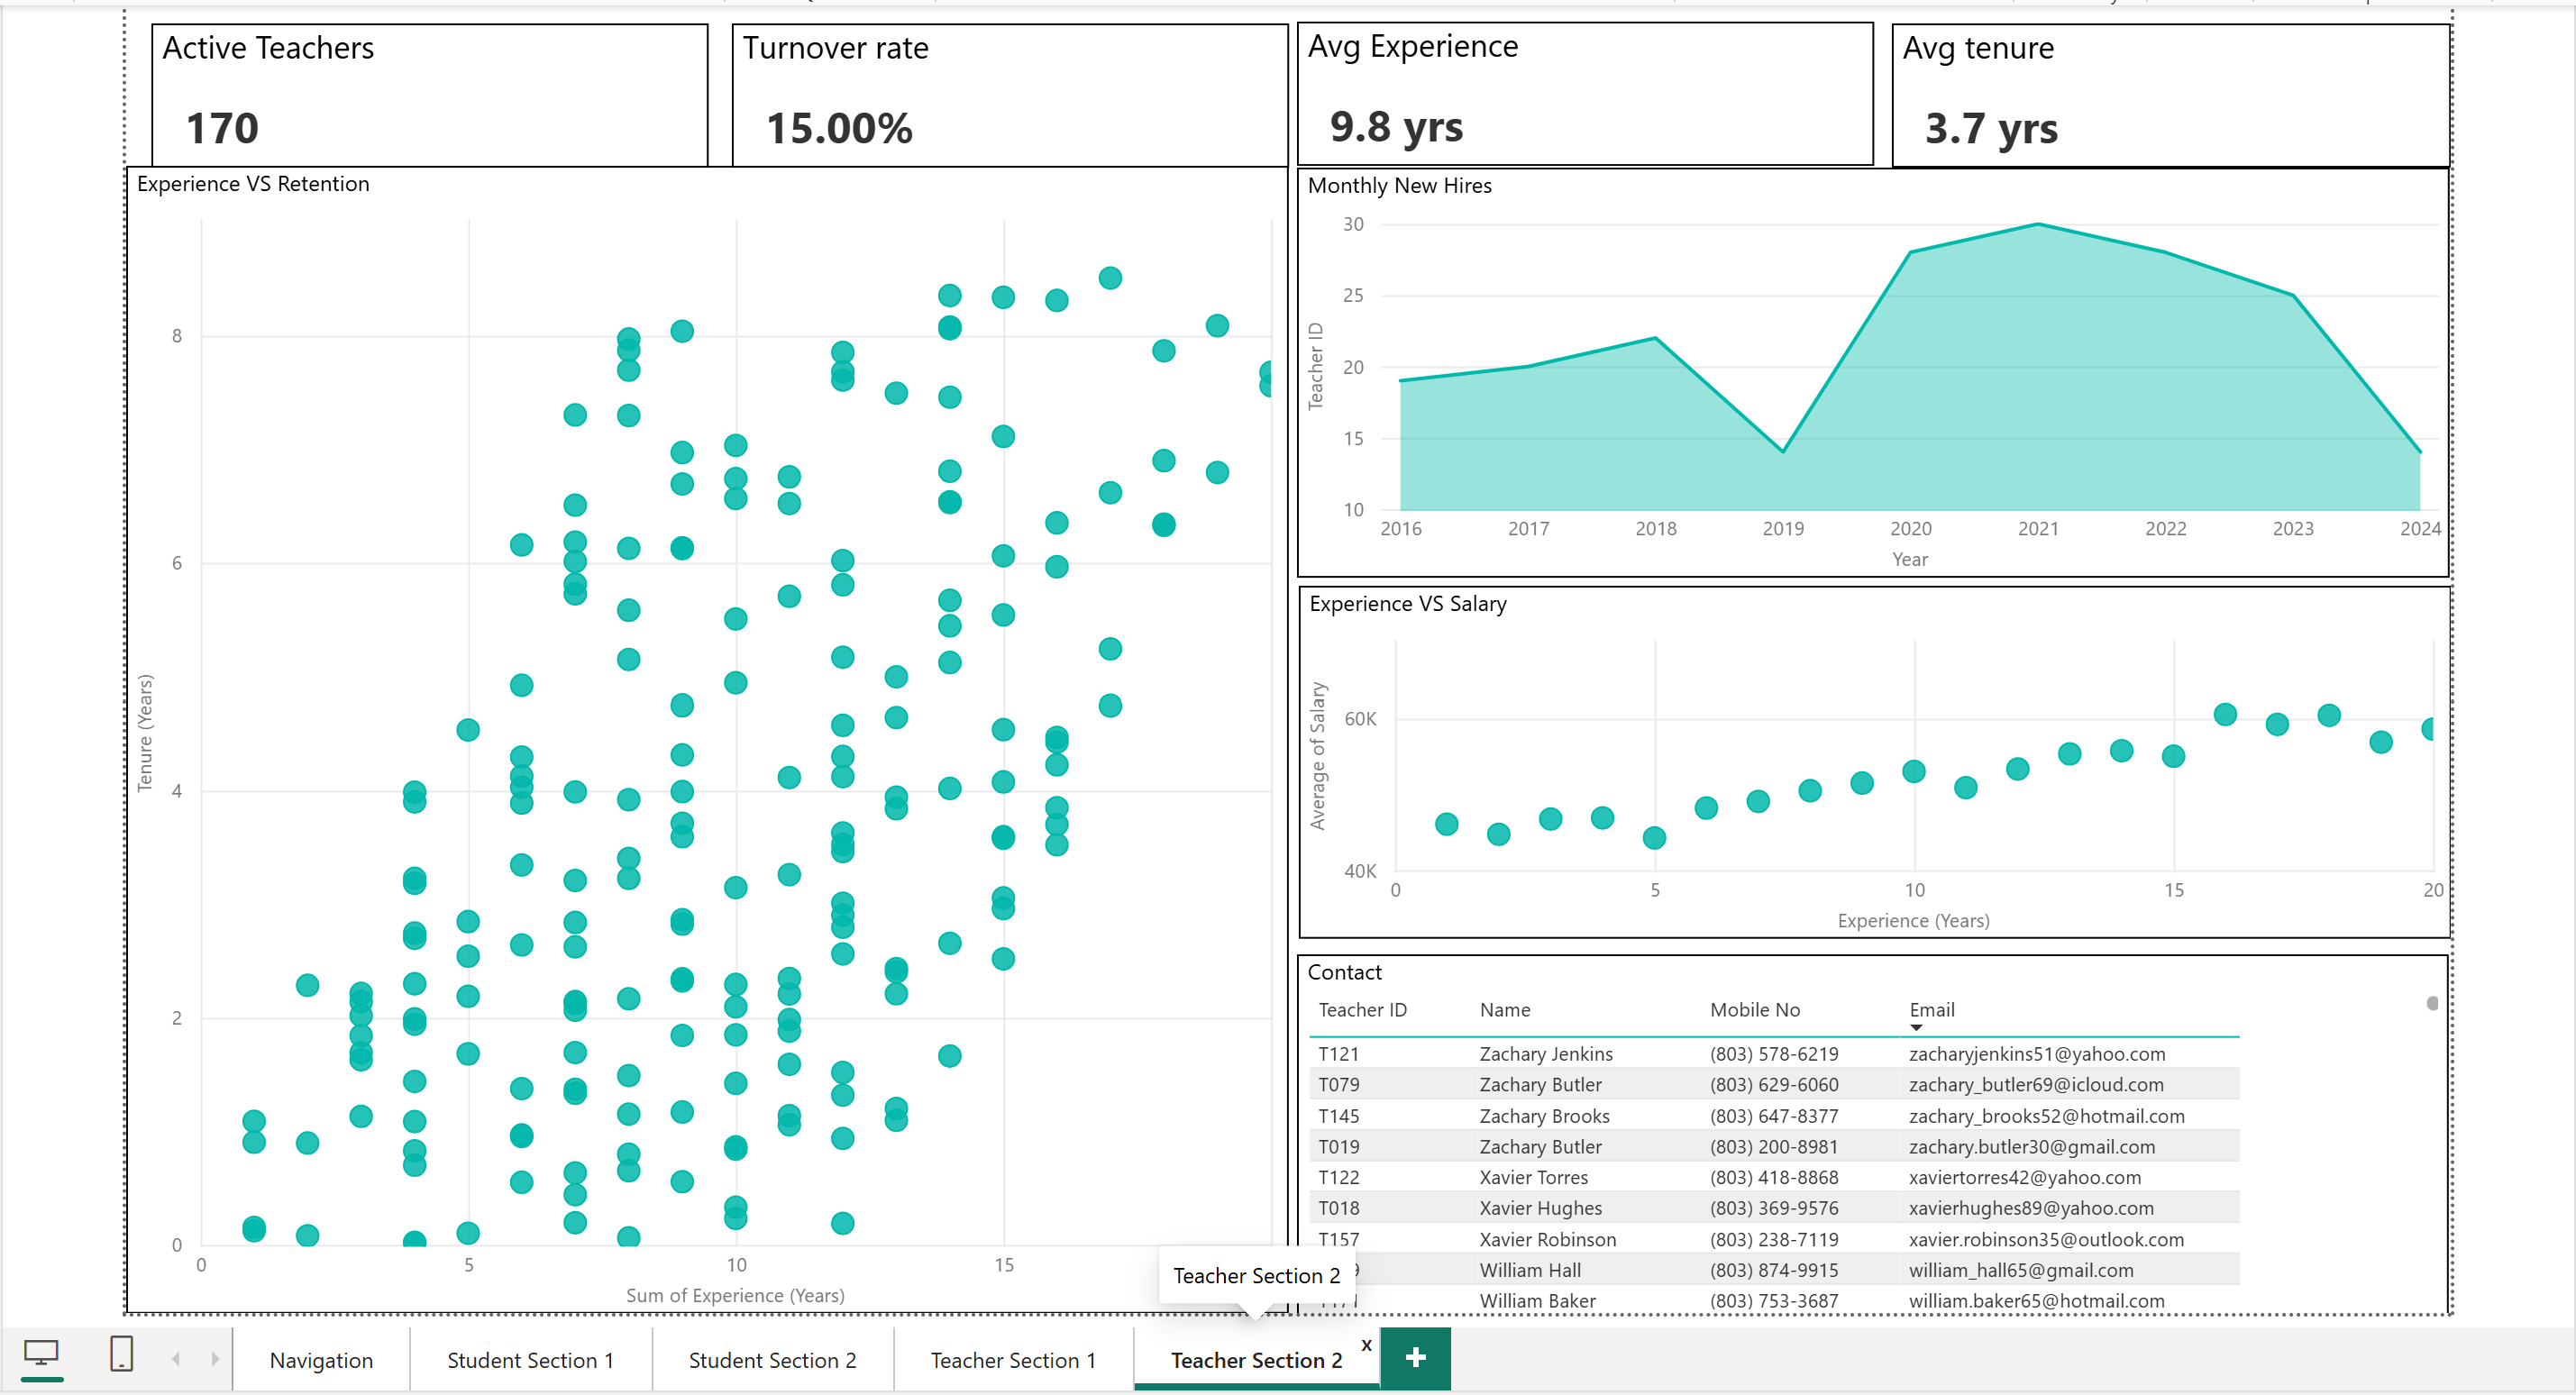

This screenshot's page, from the dashboard's own definition file:
{"tool":"powerbi","page":{"name":"Teacher Section 2","canvas":[1280,720],"ordinal":4},"visuals":[{"type":"scatterChart","title":"Experience VS Retention","fields":{"Category":["Teachers Section.Teacher ID"],"X":["Sum(Teachers Section.Experience (Years))"],"Y":["Teachers Section.Tenure (Years)"]},"box":[0,88.4,640.7,632],"z":0},{"type":"group","id":"g1","title":"Teacher Section 2","box":[644.7,88.9,636.4,632.7],"z":1000},{"type":"lineChart","title":"Monthly New Hires","fields":{"Category":["Teachers Section.Joining Date.Variation.Date Hierarchy.Year"],"Y":["CountNonNull(Teachers Section.Teacher ID)"]},"box":[644.7,88.9,634.9,226.1],"z":1000,"group":"g1"},{"type":"cardVisual","title":"Active Teachers","fields":{"Data":["Teachers Section.Active Teachers"]},"box":[13.9,9.9,306.9,79.4],"z":2000},{"type":"scatterChart","title":"Experience VS Salary","fields":{"X":["Teachers Section.Experience (Years)"],"Y":["Teachers Section.Salary"]},"box":[646.1,319.5,634.9,194.2],"z":2000,"group":"g1"},{"type":"cardVisual","title":"Turnover rate","fields":{"Data":["Teachers Section.Turnover Rate"]},"box":[333.7,9.9,306.9,79.4],"z":3000},{"type":"cardVisual","title":"Avg Experience","fields":{"Data":["Teachers Section.Avg Experience"]},"box":[644.5,8.9,317.8,79.4],"z":4000},{"type":"tableEx","title":"Contact","fields":{"Values":["Teachers Section.Teacher ID","Teachers Section.Name","Teachers Section.Mobile No","Teachers Section.Email"]},"box":[645,522,634.6,199.6],"z":4000,"group":"g1"},{"type":"cardVisual","title":"Avg tenure","fields":{"Data":["Teachers Section.Avg Tenure (Years)"]},"box":[972.2,9.9,307.9,79.4],"z":5000}]}

Visuals, with their boxes on the page's 1280x720 design canvas (x1, y1, x2, y2). These are canvas units, not pixel positions in the 2576x1395 screenshot, which may show the page scaled, cropped or inside an application window:
"Experience VS Retention" scatterChart: detection(0, 88, 641, 720)
"Teacher Section 2" group: detection(645, 89, 1281, 722)
"Monthly New Hires" lineChart: detection(645, 89, 1280, 315)
"Active Teachers" cardVisual: detection(14, 10, 321, 89)
"Experience VS Salary" scatterChart: detection(646, 320, 1281, 514)
"Turnover rate" cardVisual: detection(334, 10, 641, 89)
"Avg Experience" cardVisual: detection(644, 9, 962, 88)
"Contact" tableEx: detection(645, 522, 1280, 722)
"Avg tenure" cardVisual: detection(972, 10, 1280, 89)
